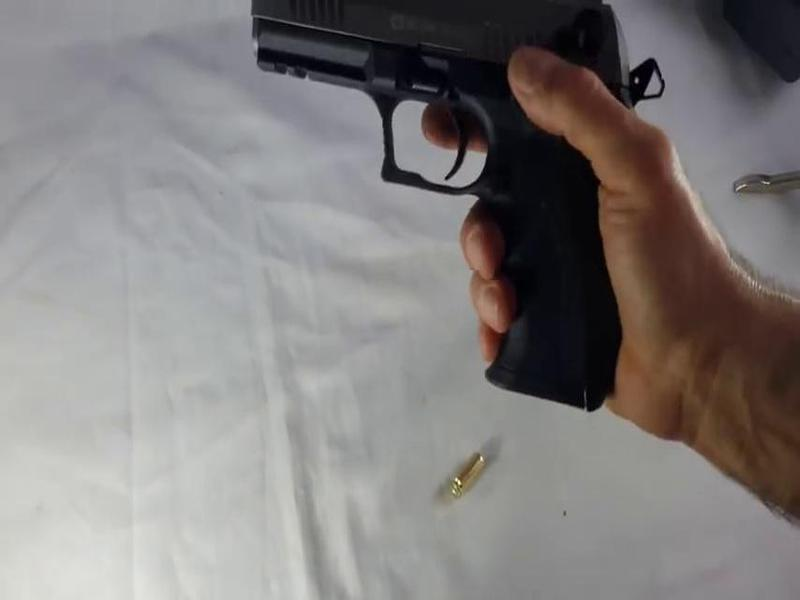Pistola: (233, 1, 644, 415)
